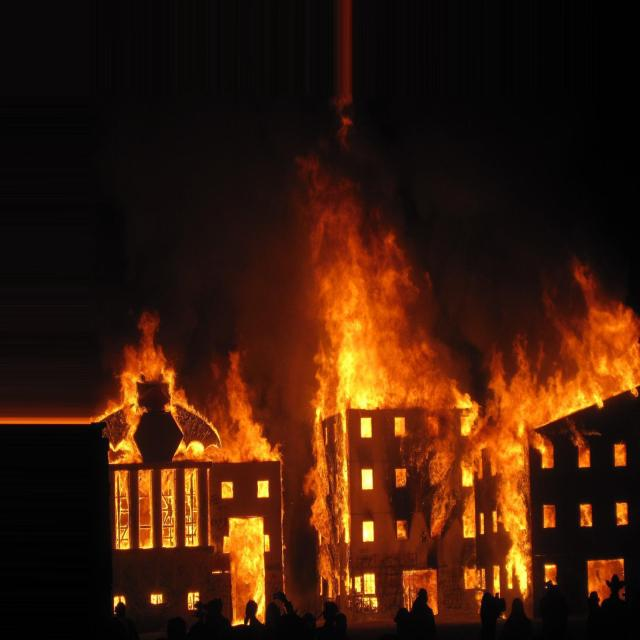fire: (303, 98, 496, 618), (90, 285, 284, 625), (500, 224, 633, 621)
